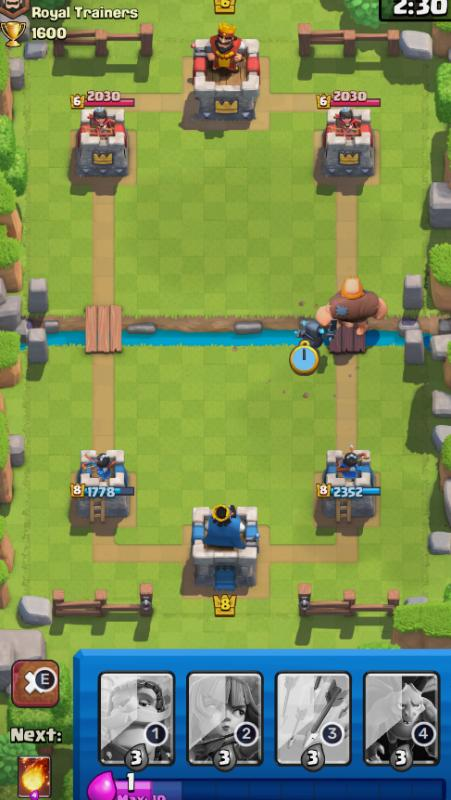geant: (328, 271, 389, 349)
mini_PEKKA: (298, 314, 321, 356)
